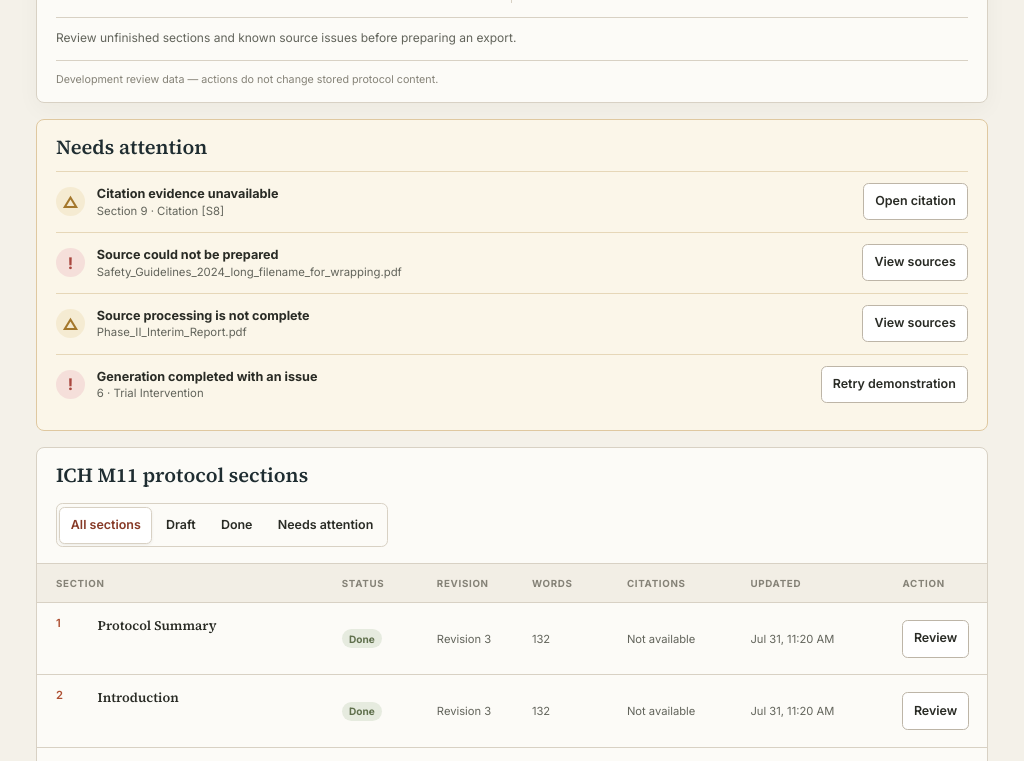
governance review pages › completes retry locally without claiming a stored change
(page scrolled)
Click the button "Retry demonstration": click(894, 384) [820, 366, 968, 403]
(page scrolled)
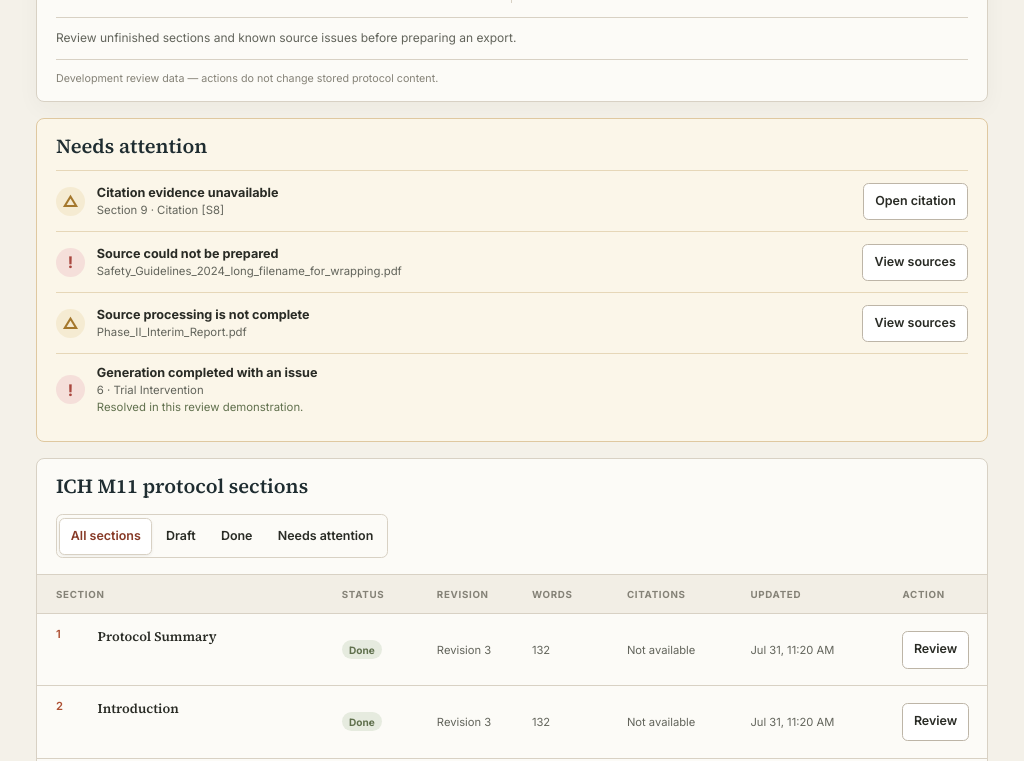
Now the text "Resolved in this review demonstration." is shown, box [97, 400, 303, 414]
